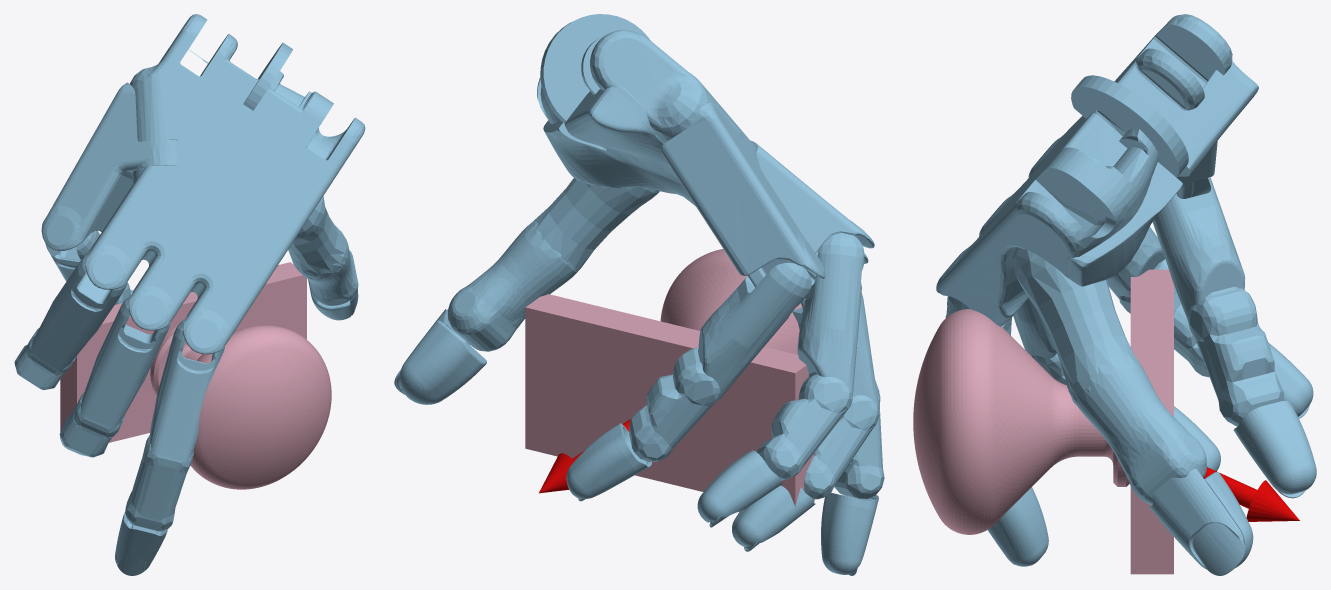
3 renders of one model, left to right at view 1: azimuth 30°, elevation 25°; view 2: azimuth 150°, elevation 25°; view 3: azimuth 270°, elevation 25°, orthographic. The views are drawn at different scales.
Visible parts, largest first — view 1: world, door_knob.stl; view 2: world, door_knob.stl; view 3: world, door_knob.stl.
Boxes of the visible parts, bbox=[...] form: world: bbox=[14, 14, 365, 575]; door_knob.stl: bbox=[60, 262, 331, 489]; world: bbox=[394, 14, 884, 575]; door_knob.stl: bbox=[525, 249, 814, 506]; world: bbox=[936, 14, 1316, 575]; door_knob.stl: bbox=[913, 269, 1173, 574].
Size of the model in its own units: 0.1544 by 0.1995 by 0.116.
